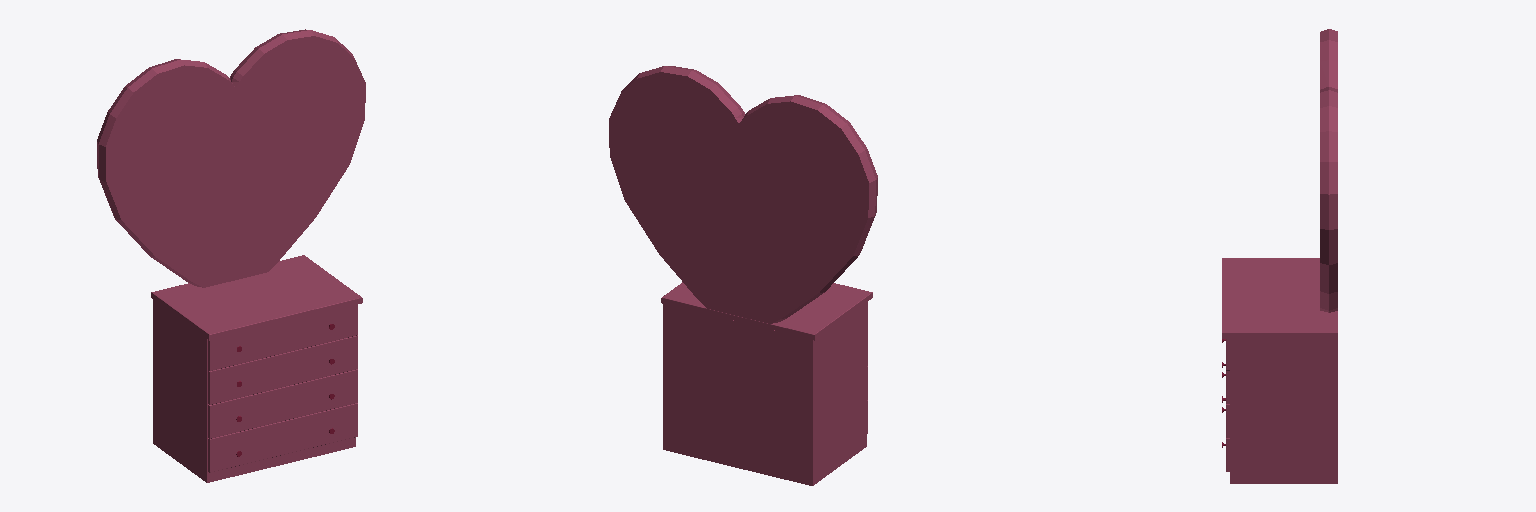
3 views of the same model, side by side, from view 1: azimuth 30°, elevation 25°; view 2: azimuth 150°, elevation 25°; view 3: azimuth 270°, elevation 25° (orthographic).
Parts seen in each view (by area): view 1: house:tocador1:heartpolySurface2 polySurface6, house:tocador1:heartpolySurface2 polySurface18, polySurface7 house:tocador1:heartpolySurface2, house:tocador1:heartpolySurface2 polySurface10, house:tocador1:heartpolySurface2 polySurface8, house:tocador1:heartpolySurface2 polySurface17, house:tocador1:heartpolySurface2 polySurface9; view 2: house:tocador1:heartpolySurface2 polySurface6, house:tocador1:heartpolySurface2 polySurface18, polySurface7 house:tocador1:heartpolySurface2; view 3: house:tocador1:heartpolySurface2 polySurface18, polySurface7 house:tocador1:heartpolySurface2, house:tocador1:heartpolySurface2 polySurface6.
Boxes of the visible parts, x1=… form: house:tocador1:heartpolySurface2 polySurface6: x1=97, y1=29, x2=365, y2=287; house:tocador1:heartpolySurface2 polySurface18: x1=153, y1=300, x2=355, y2=482; polySurface7 house:tocador1:heartpolySurface2: x1=151, y1=255, x2=362, y2=340; house:tocador1:heartpolySurface2 polySurface10: x1=208, y1=403, x2=357, y2=472; house:tocador1:heartpolySurface2 polySurface8: x1=208, y1=335, x2=357, y2=404; house:tocador1:heartpolySurface2 polySurface17: x1=208, y1=369, x2=357, y2=438; house:tocador1:heartpolySurface2 polySurface9: x1=208, y1=305, x2=357, y2=370; house:tocador1:heartpolySurface2 polySurface6: x1=609, y1=66, x2=877, y2=323; house:tocador1:heartpolySurface2 polySurface18: x1=663, y1=303, x2=866, y2=485; polySurface7 house:tocador1:heartpolySurface2: x1=661, y1=282, x2=872, y2=340; house:tocador1:heartpolySurface2 polySurface18: x1=1230, y1=339, x2=1337, y2=483; polySurface7 house:tocador1:heartpolySurface2: x1=1222, y1=258, x2=1337, y2=338; house:tocador1:heartpolySurface2 polySurface6: x1=1320, y1=29, x2=1337, y2=312.
Size of the model in its own units: 1.97 by 2.7 by 0.7469.
2 materials, 2 textured.